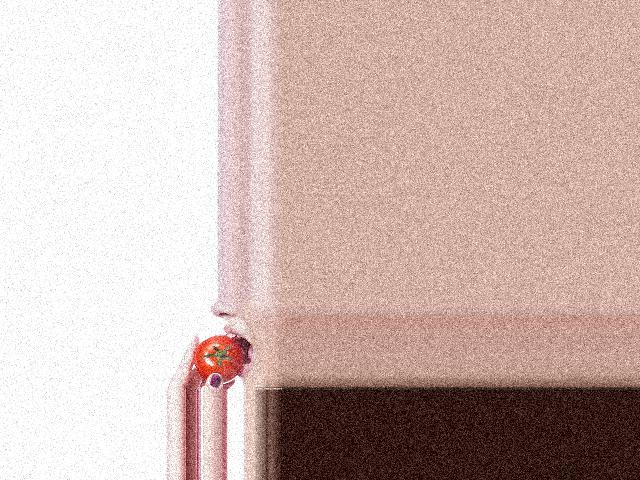tomato: (192, 335, 242, 384)
